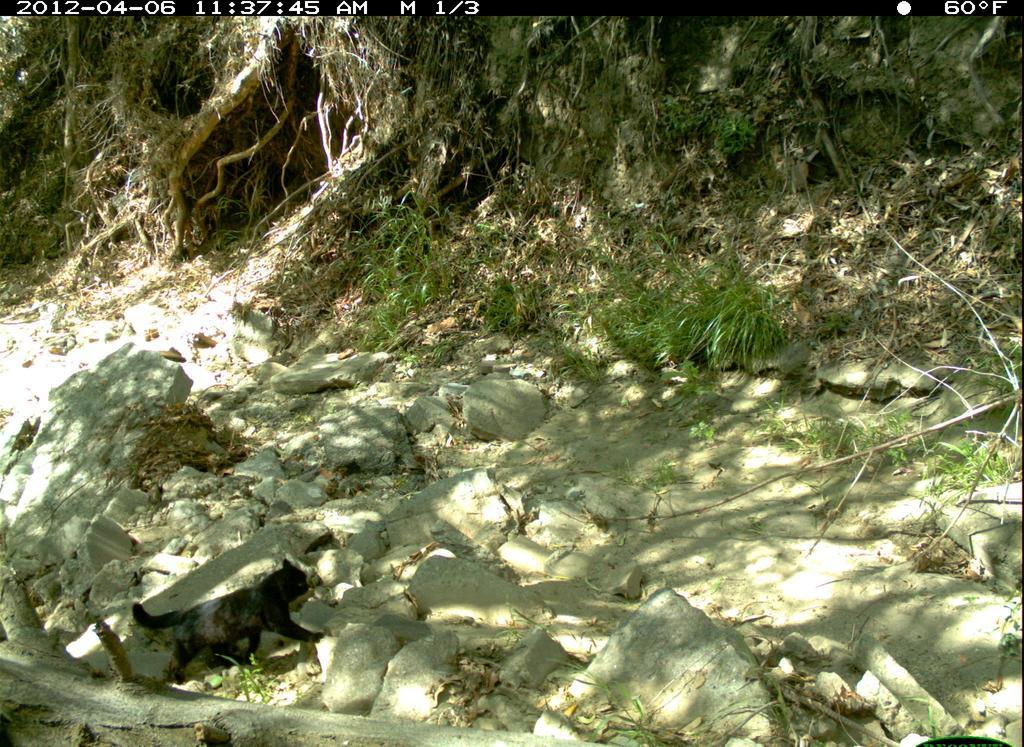cat: (111, 562, 361, 702)
